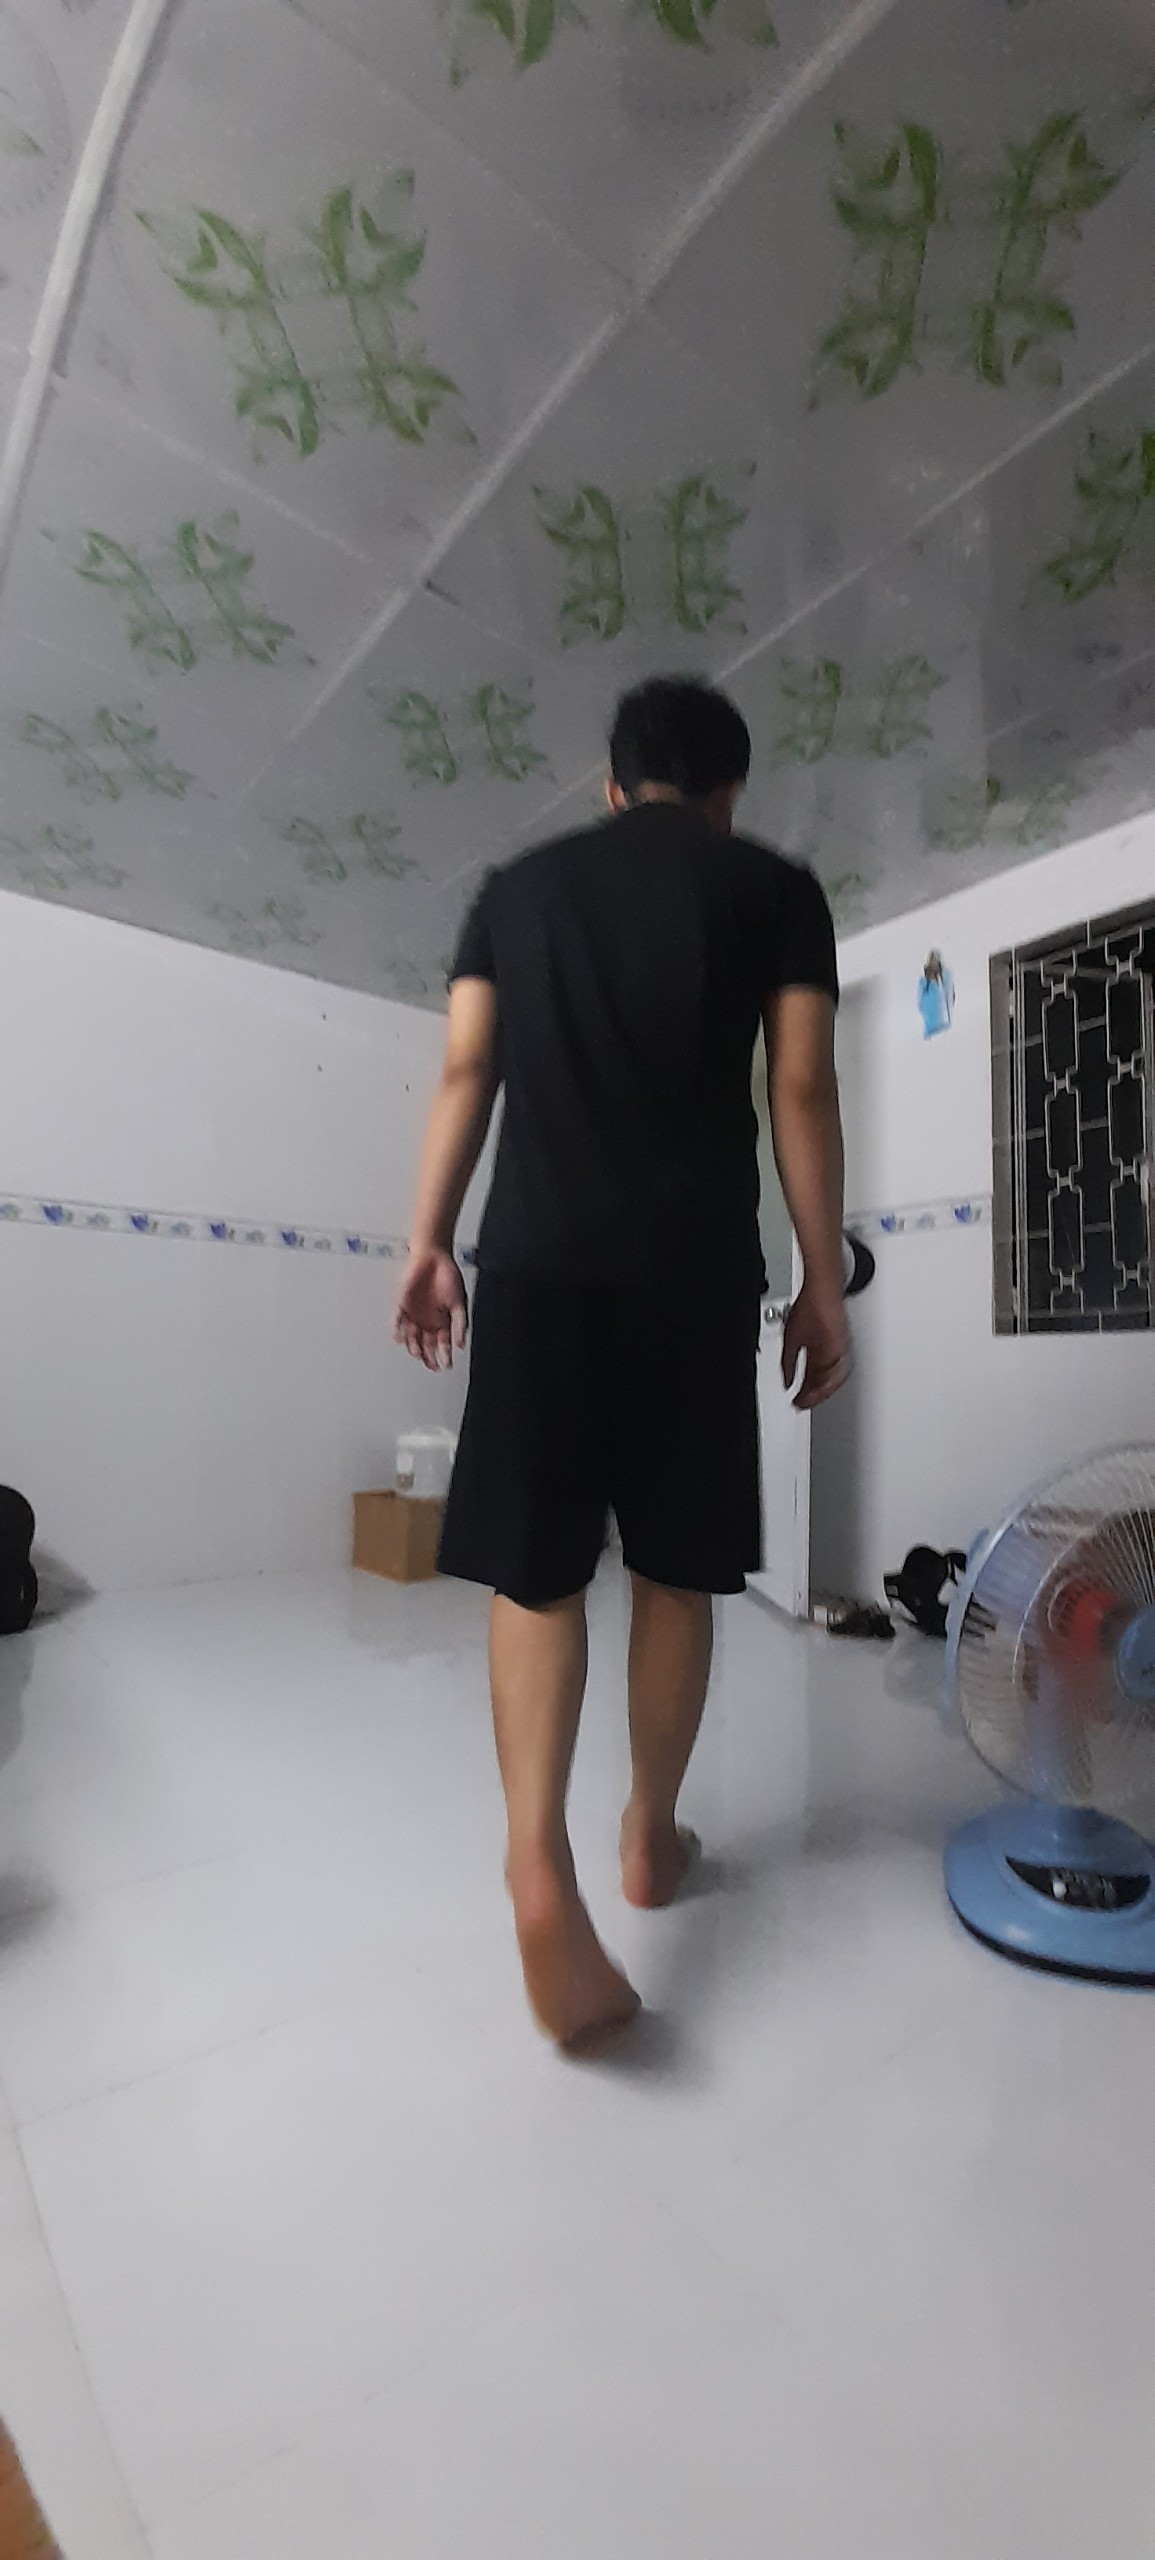person: (435, 679, 824, 2041)
